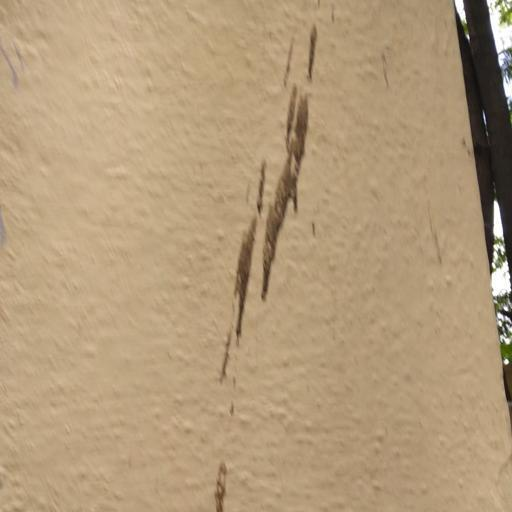stain: (182, 22, 334, 512)
